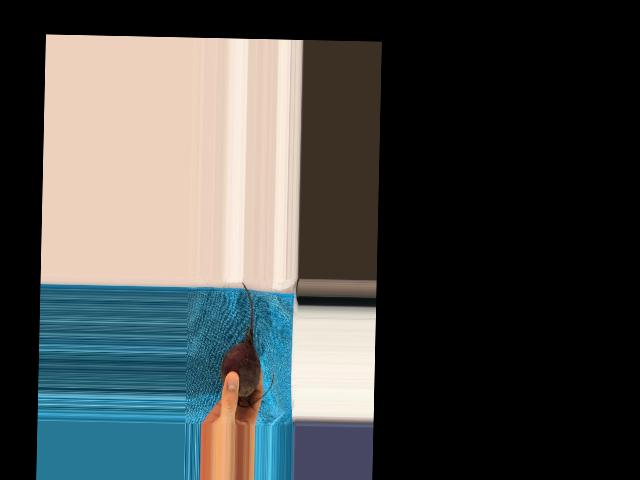beet: (219, 281, 274, 407)
